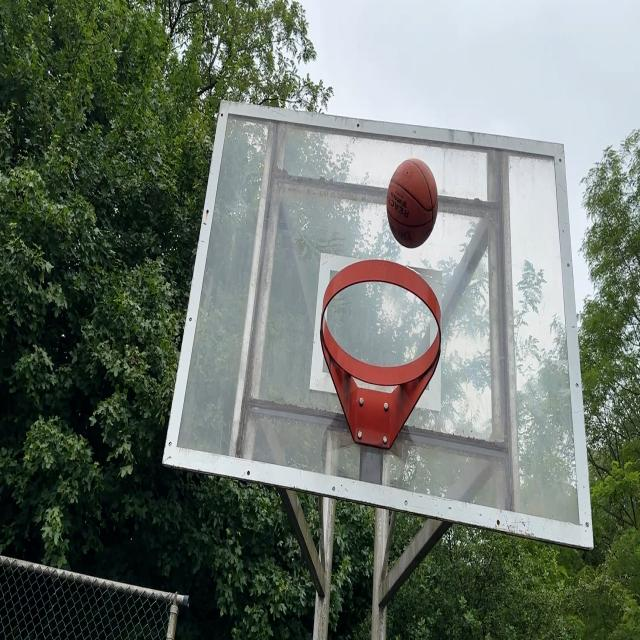Basketball: (388, 159, 440, 250)
